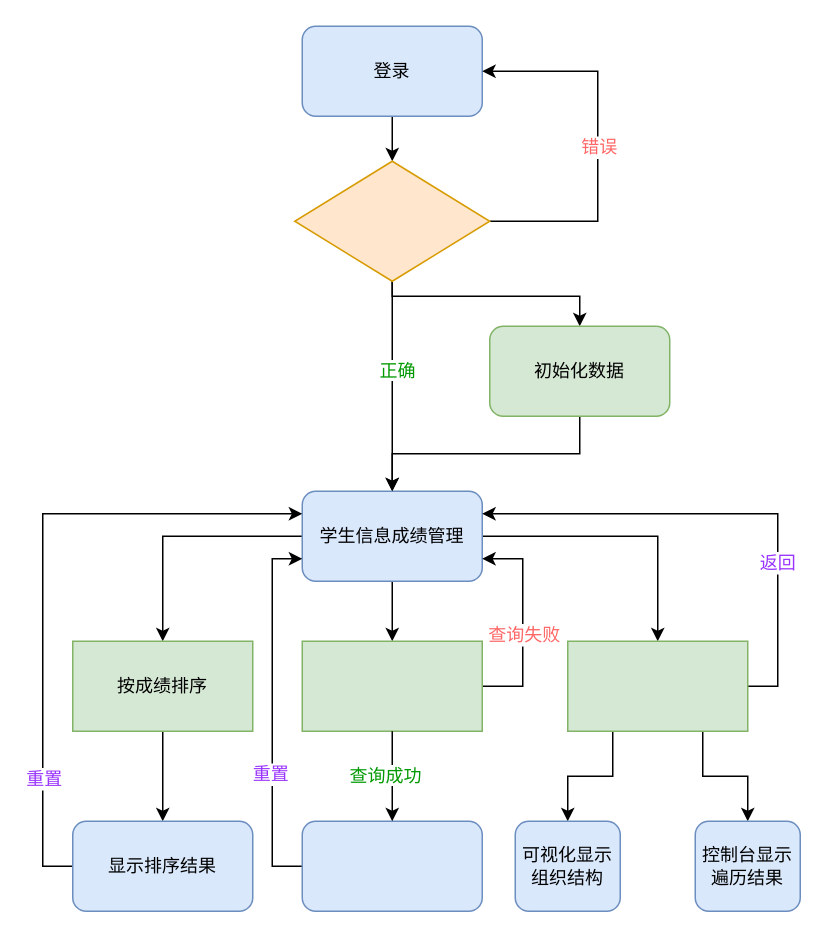
Image size: 827x938. Some labels were removed from this diagram. Each missing label, with the centre of its shape:
"按学号查询学生信息" belongs at (x=391, y=685).
"显示查询结果" belongs at (x=391, y=865).
"组织结构" belongs at (x=657, y=685).
"输入账号密码" belongs at (x=391, y=220).
